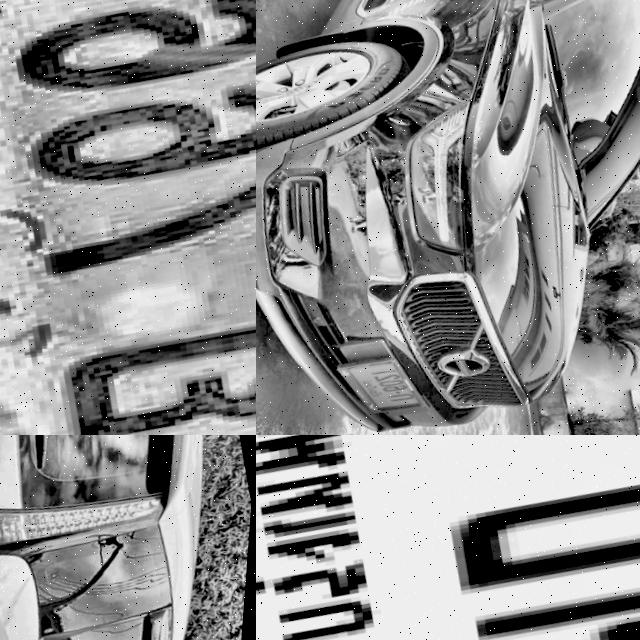license-plate: (0, 0, 256, 435), (256, 435, 640, 640), (333, 339, 441, 424)
